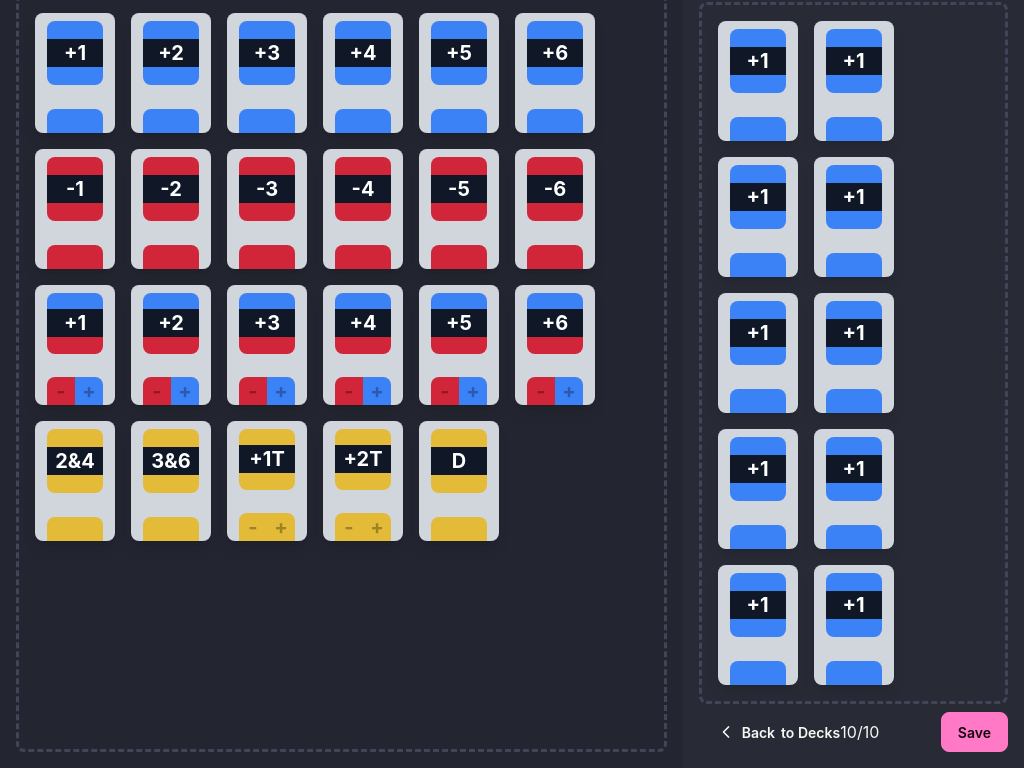
Test case: DeckBuilder › rejects adding more than 2 copies of the same card
(page scrolled)
Click the button "Save": [974, 732] box x1=941 y1=712 x2=1008 y2=752
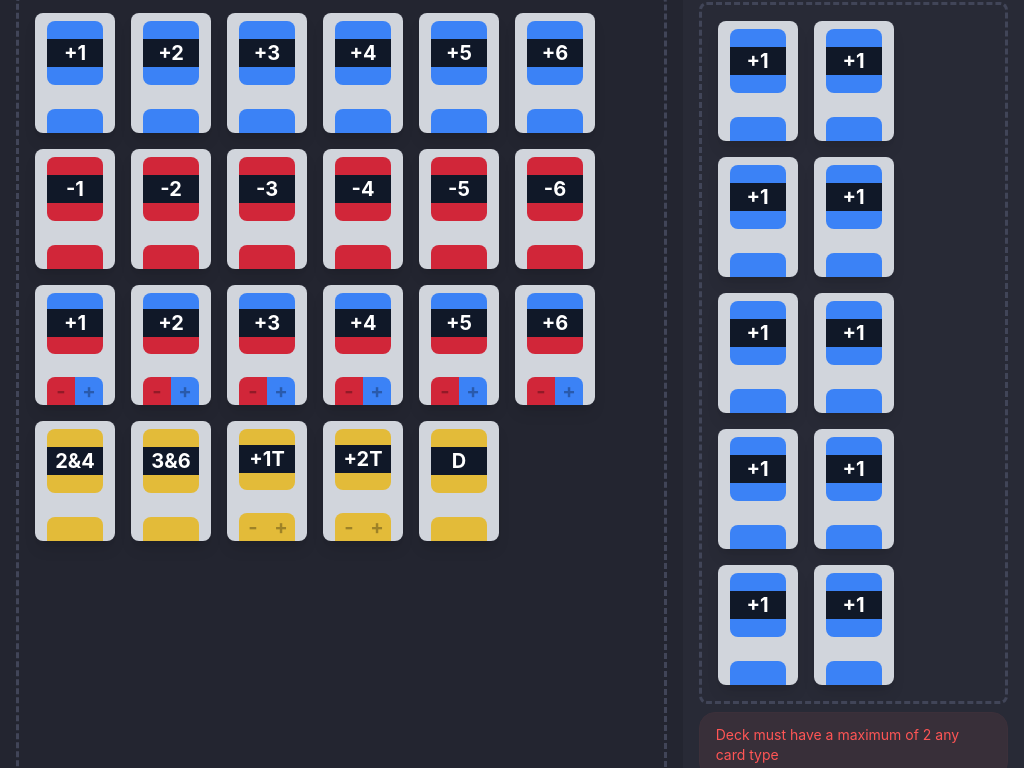
Now the text "Deck must have a maximum of 2 any card type" is shown, box x1=716 y1=725 x2=991 y2=765
